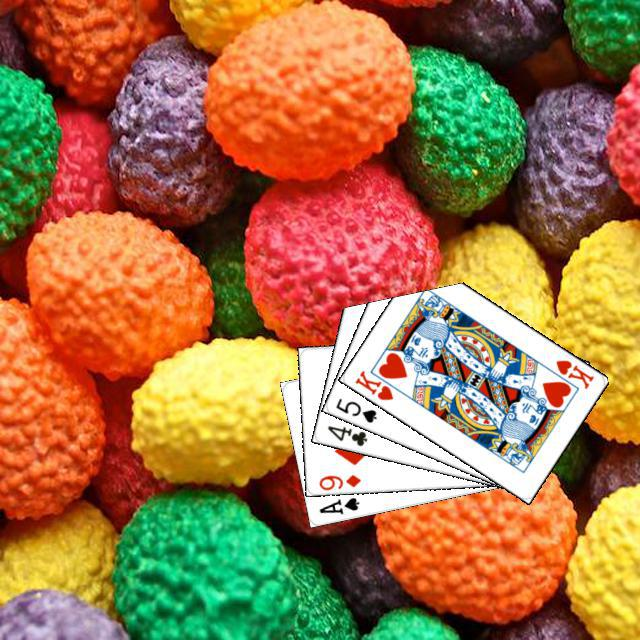4c: (322, 421, 369, 448)
5s: (331, 393, 378, 425)
9d: (314, 470, 362, 491)
As: (314, 492, 361, 516)
Kh: (350, 364, 404, 402), (551, 355, 596, 391)
